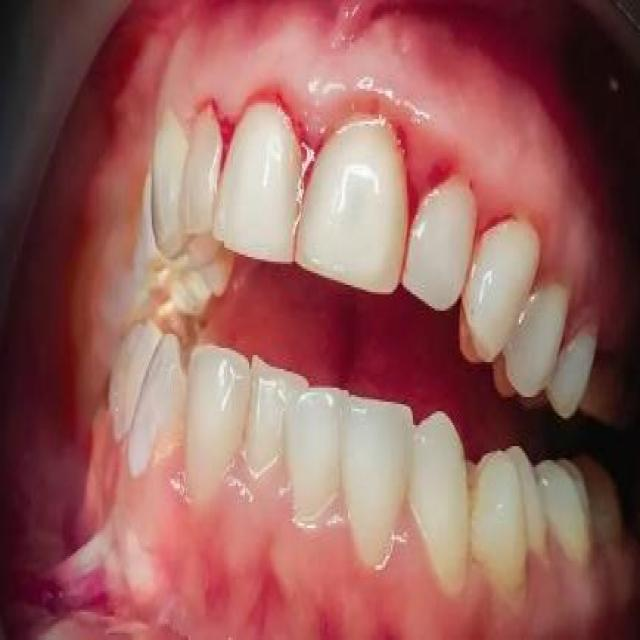Gingivitis: (397, 110, 448, 217), (285, 81, 328, 174), (216, 92, 234, 160)
